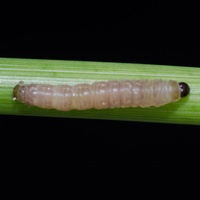insect: (12, 78, 190, 111), (13, 80, 189, 110)
